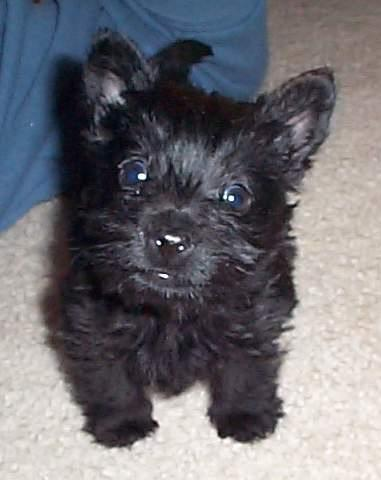dog-scottish_terrier: (82, 27, 335, 290)
